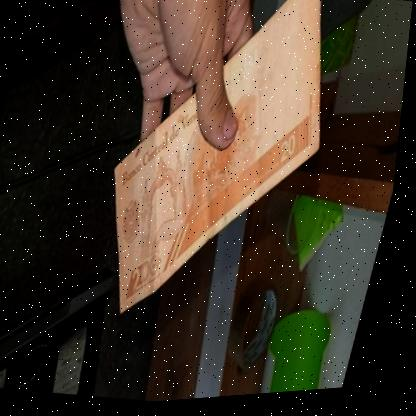twenty-back-vef: (81, 0, 361, 343)
